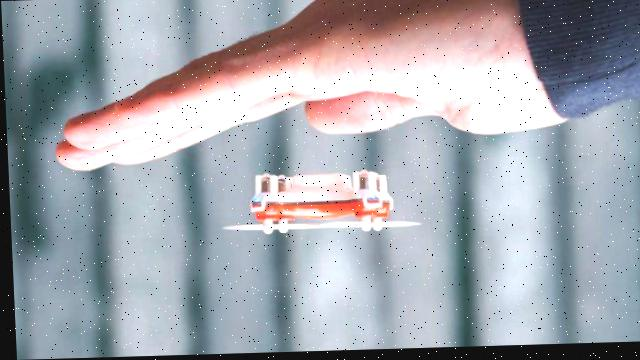drone: (205, 160, 427, 245)
